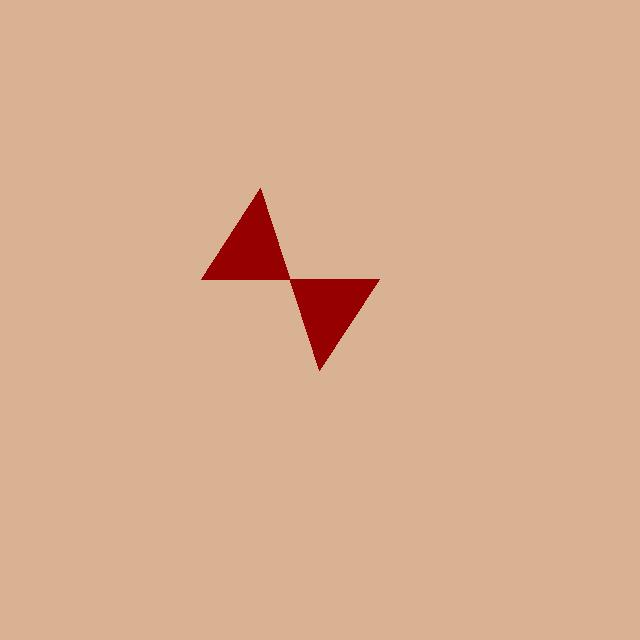laceration: (201, 188, 379, 370)
